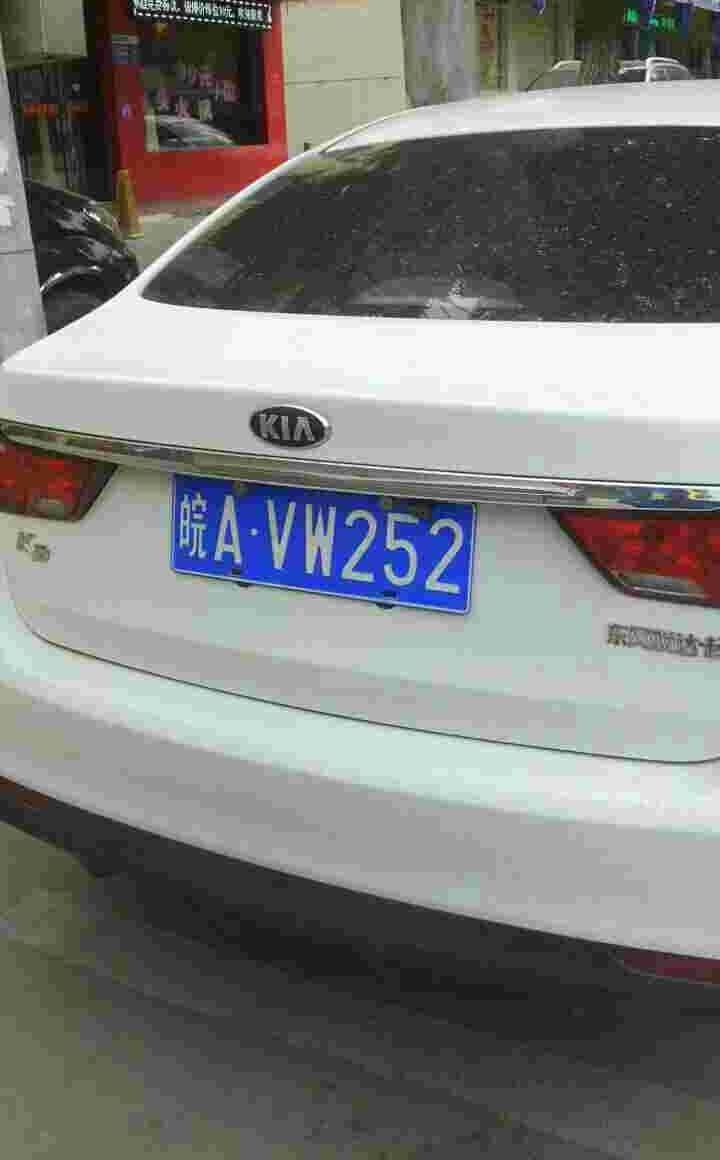license_plate: (167, 473, 470, 612)
